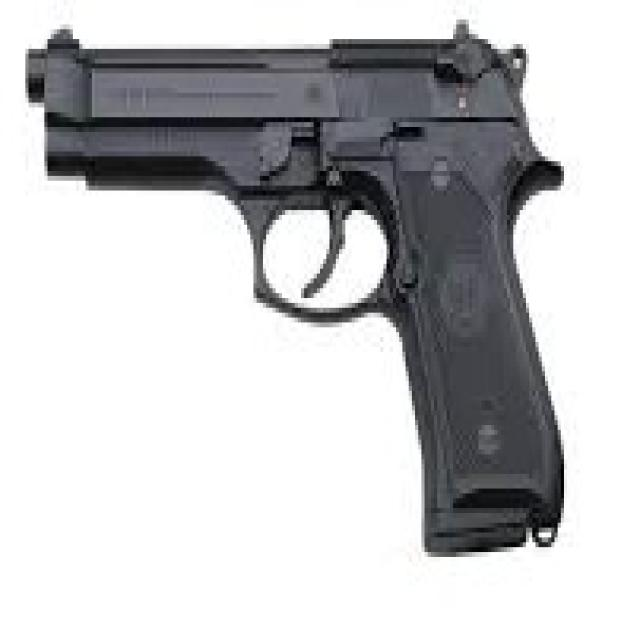pistol: (22, 11, 577, 572)
